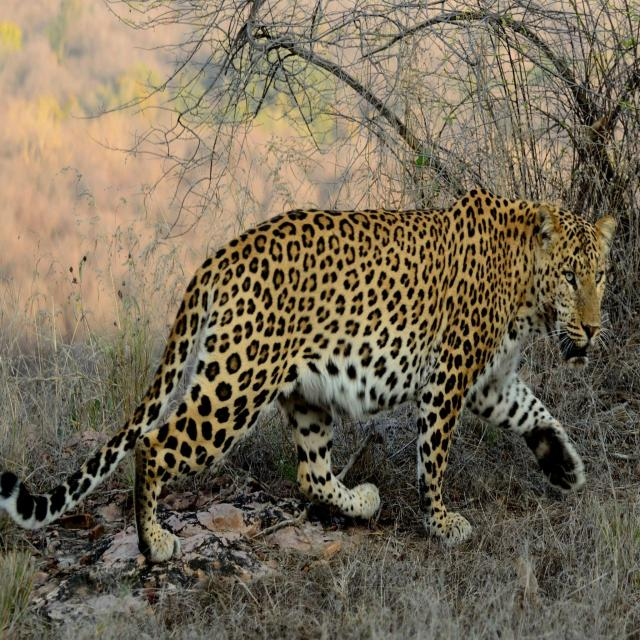Leopard: (0, 210, 616, 560)
